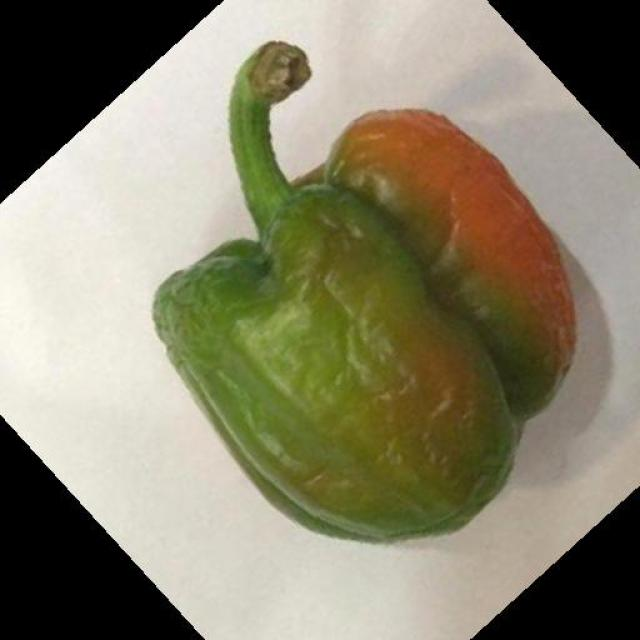Stale_Capsicum: (117, 52, 578, 549)
